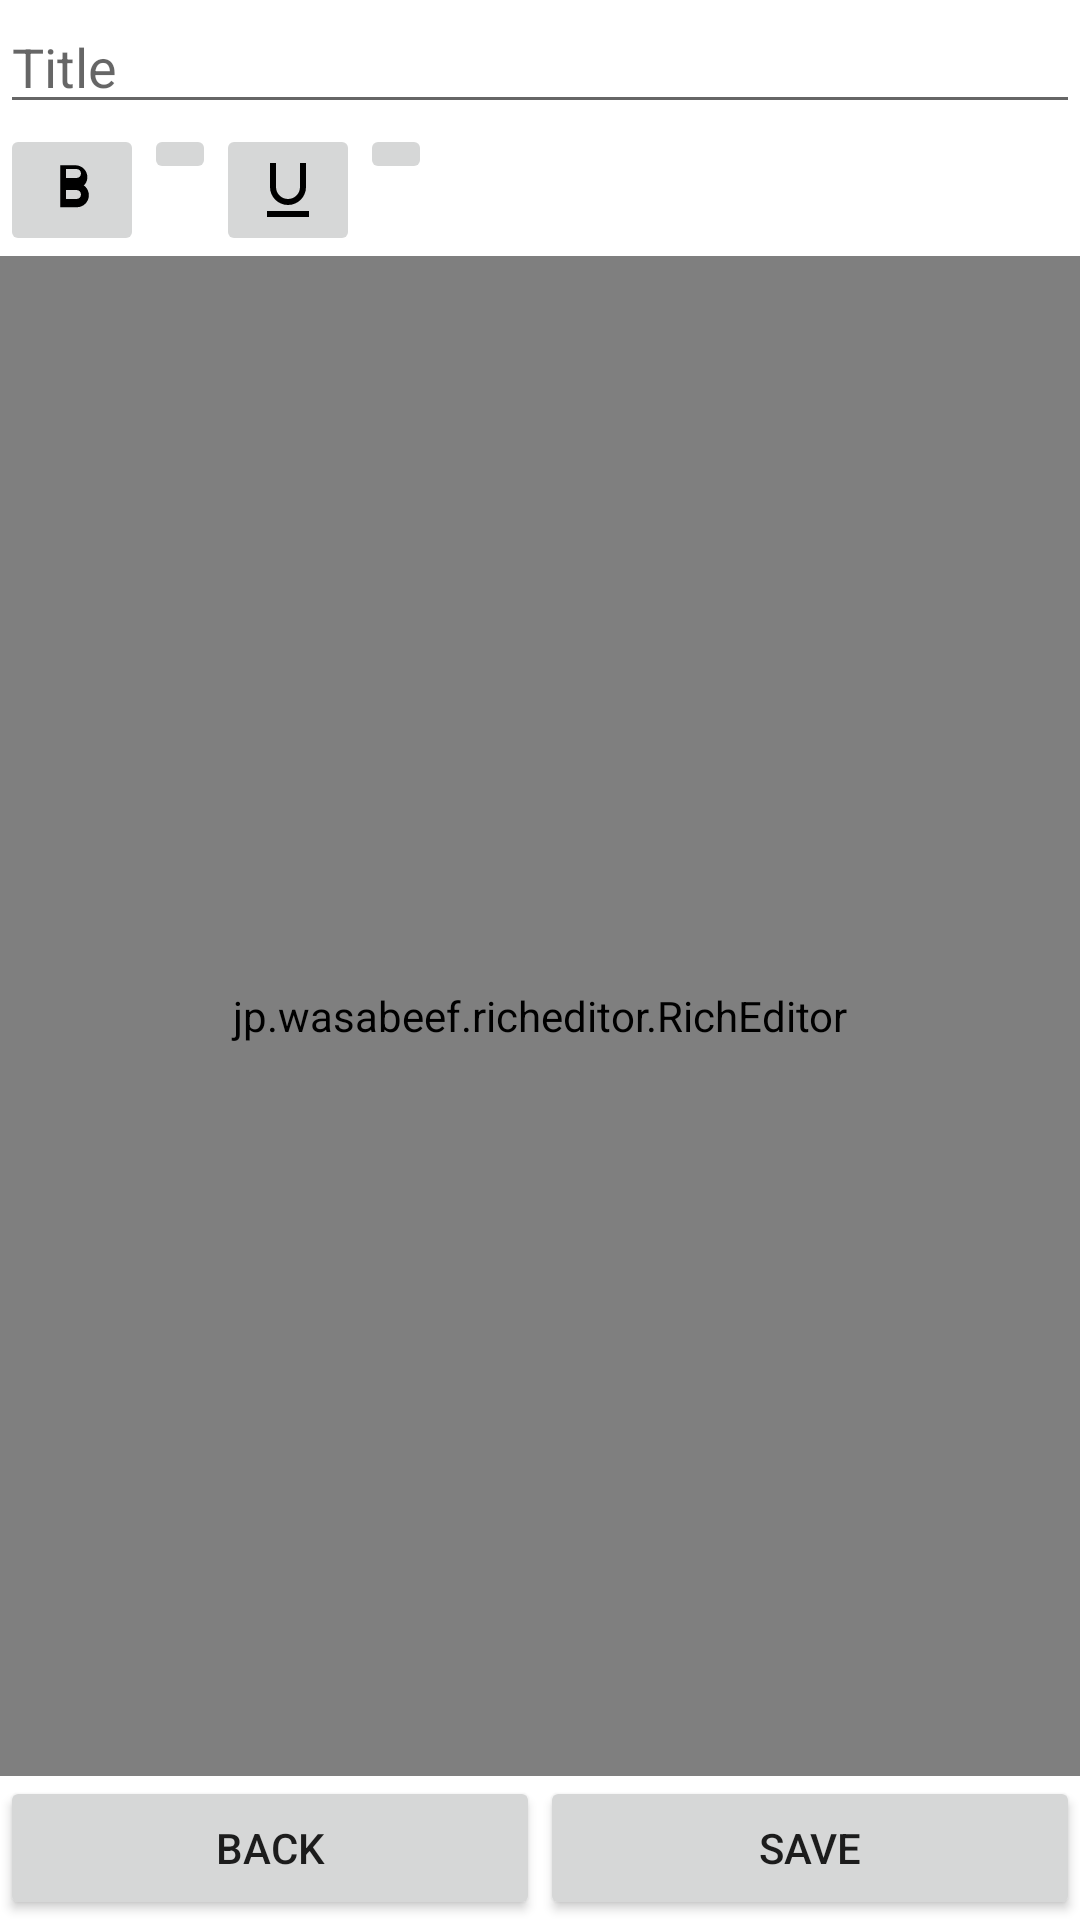

Icons on this 1080 × 1920 Android screen, each with the point to tap as [x,y]:
Bold: [72,190]
Underline: [288,190]
